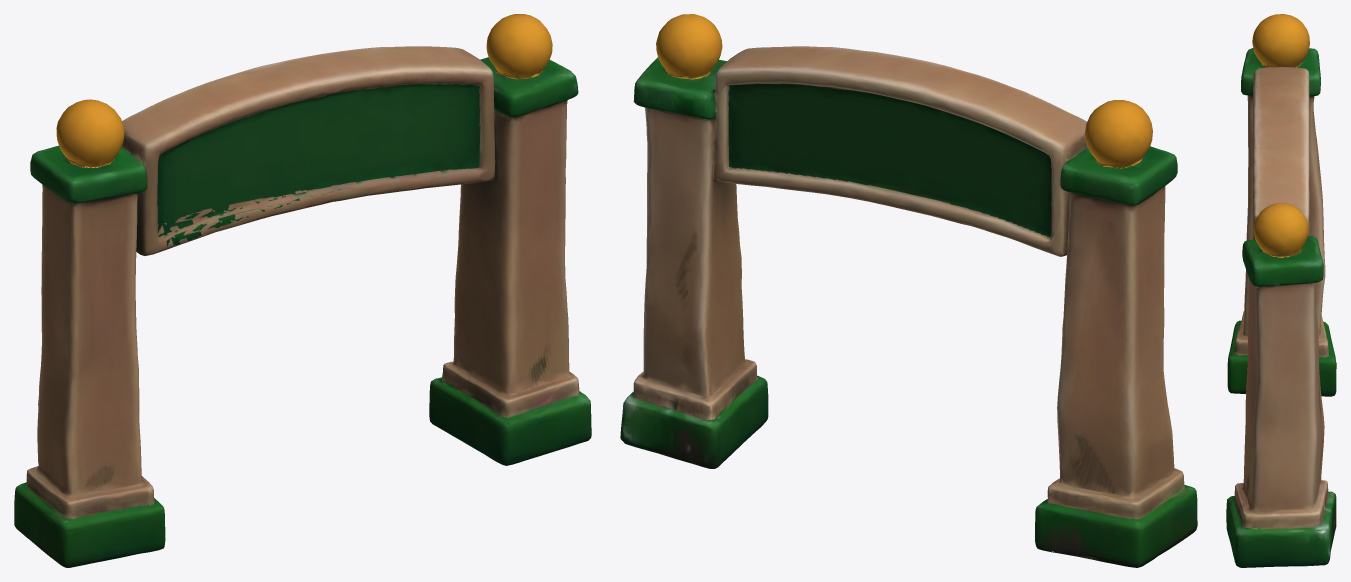
Rendered from arch.glb.
3 views of the same model, side by side, from view 1: azimuth 30°, elevation 25°; view 2: azimuth 150°, elevation 25°; view 3: azimuth 270°, elevation 25° (orthographic). The views are drawn at different scales.
Size of the model in its own units: 1 by 0.784 by 0.2176.
1 material, 1 textured.
